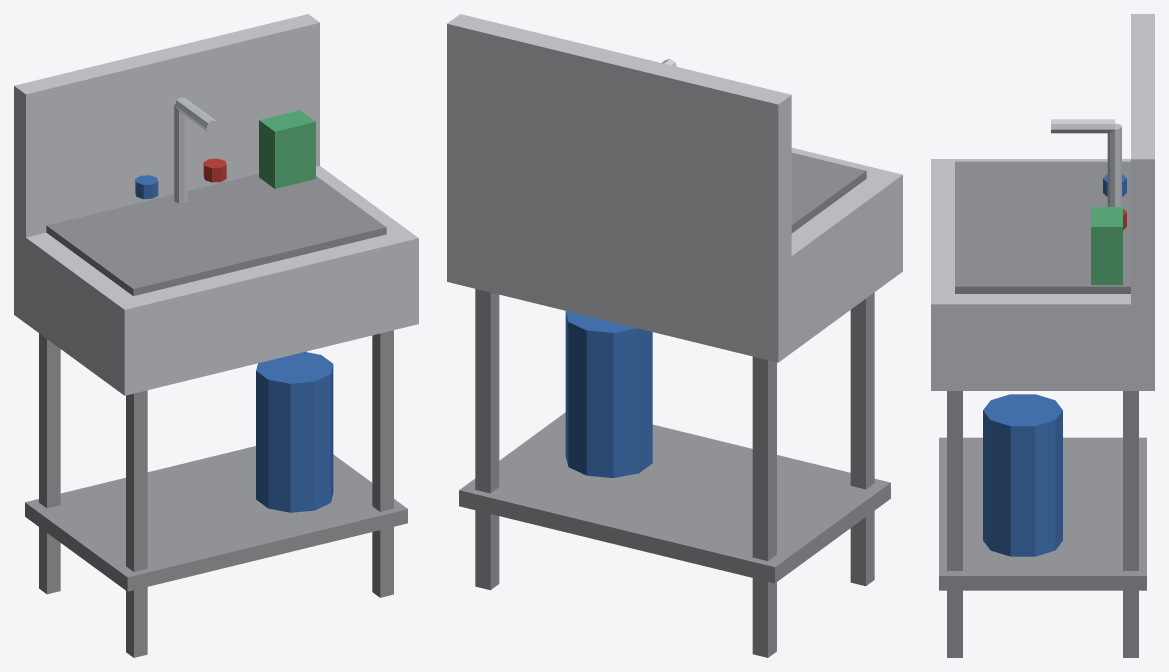
Rendered from utility_sink.glb.
3 renders of one model, left to right at view 1: azimuth 30°, elevation 25°; view 2: azimuth 150°, elevation 25°; view 3: azimuth 270°, elevation 25°, orthographic. The views are drawn at different scales.
Parts seen in each view (by area): view 1: utility_sink; view 2: utility_sink; view 3: utility_sink.
Part boxes in pixels (x1,y1,x2,y2): utility_sink: (14,14,418,657); utility_sink: (447,14,902,657); utility_sink: (931,14,1154,657).
Size of the model in its own units: 0.86 by 1.4 by 0.56.
